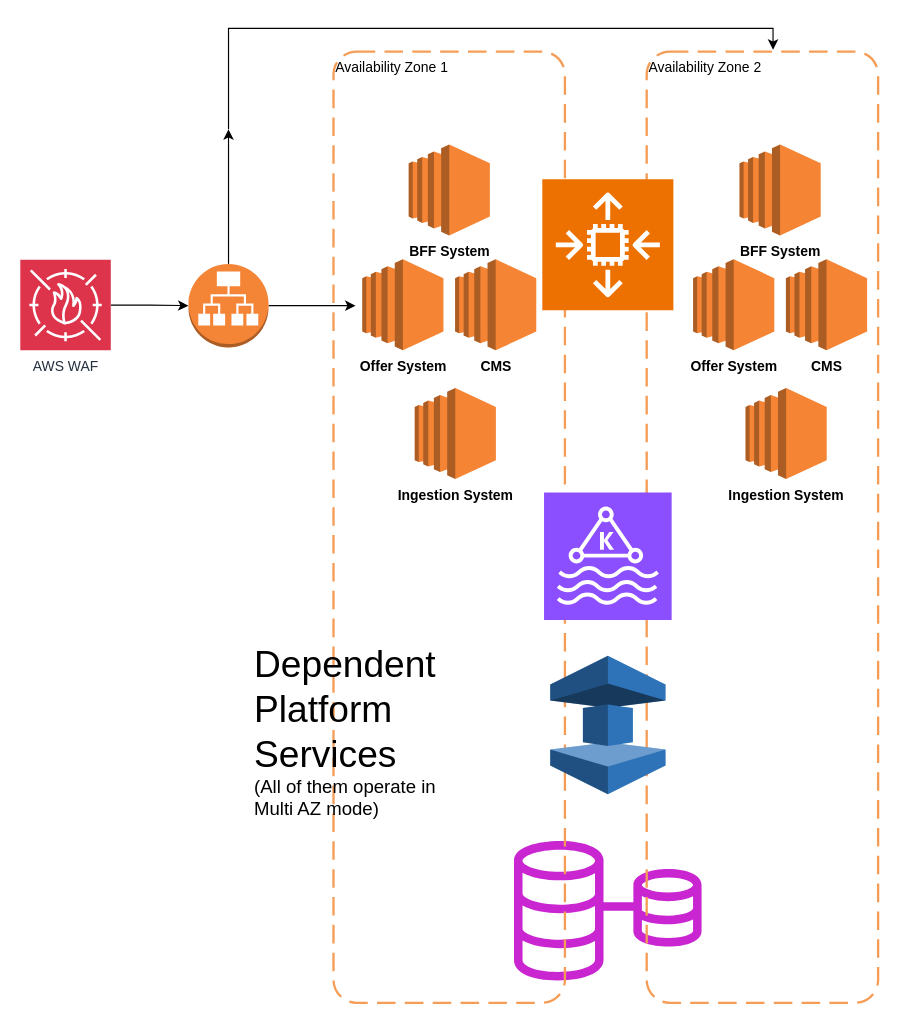
This 899x1029 diagram has some shape labels left out. Each missing label, with the centre of its shape:
"AWS ALB" belongs at point (228, 305).
"AWS Auto Scaling" belongs at point (607, 244).
"AWS Elasti Cache" belongs at point (607, 724).
"AWS Managed Kafka Service Multi AZ" belongs at point (607, 555).
"RDS Multi AZ" belongs at point (607, 910).
